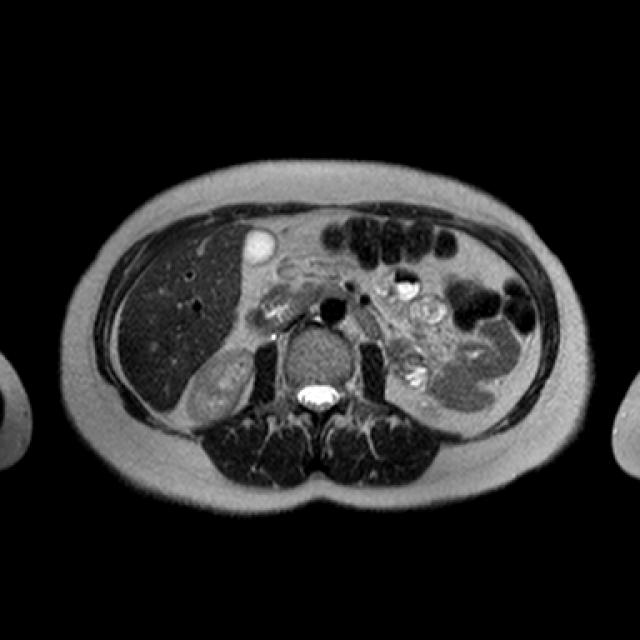sag: (186, 347, 257, 425)
sol: (415, 398, 443, 419)
